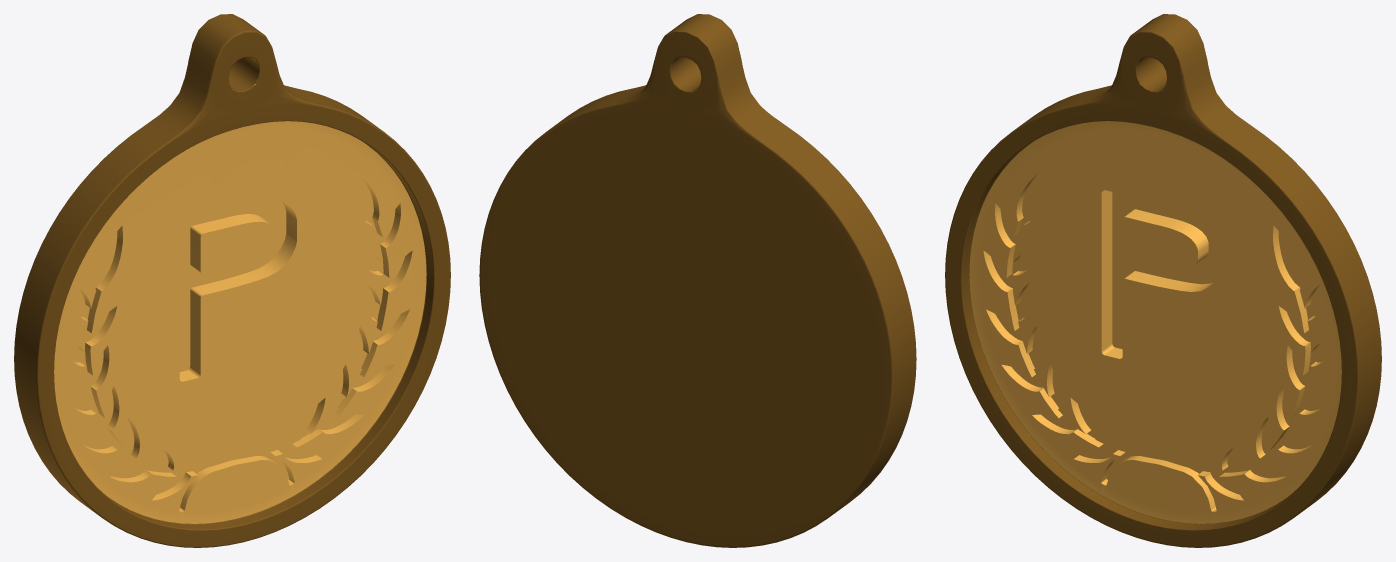
The model's file is medalP.glb.
3 views of the same model, side by side, from view 1: azimuth 30°, elevation 25°; view 2: azimuth 150°, elevation 25°; view 3: azimuth 330°, elevation 25° (orthographic).
Visible parts, largest first — view 1: medalP; view 2: medalP; view 3: medalP.
Boxes of the visible parts, x1,y1,x2,y2 form: medalP: [14, 14, 450, 547]; medalP: [479, 14, 916, 547]; medalP: [945, 14, 1381, 547].
Bounding box in the file's own units: 19.72 × 23.25 × 2.
1 material, 1 textured.
